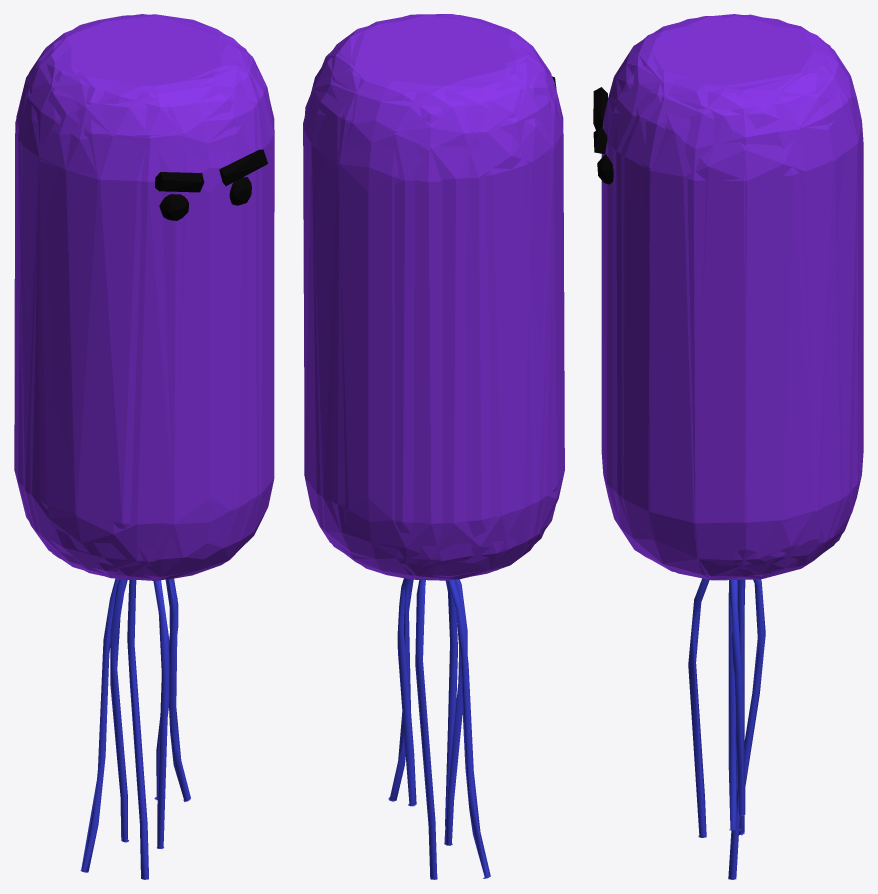
File: EColi2.fbx
3 renders of one model, left to right at view 1: azimuth 30°, elevation 25°; view 2: azimuth 150°, elevation 25°; view 3: azimuth 270°, elevation 25°, orthographic.
Visible parts, largest first — view 1: BezierCurve; view 2: BezierCurve; view 3: BezierCurve.
Part boxes in pixels (x1,y1,x2,y2): BezierCurve: (14, 14, 274, 879); BezierCurve: (303, 14, 564, 879); BezierCurve: (593, 14, 863, 879).
Size of the model in its own units: 1.41 by 1.46 by 4.94.
